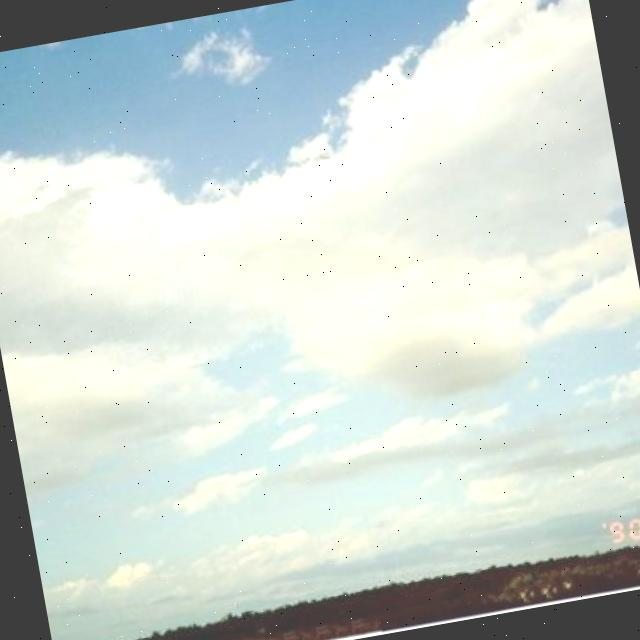St: (52, 1, 640, 487)
